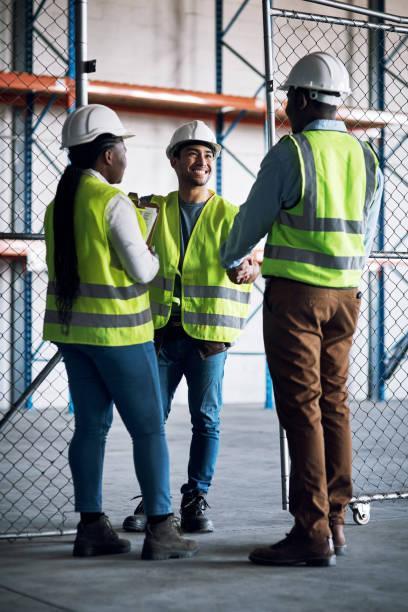bota: (68, 507, 197, 564), (247, 522, 358, 569), (177, 493, 217, 537)
capacete: (272, 52, 356, 100), (53, 106, 138, 146), (165, 124, 226, 152)
pessoa: (25, 98, 182, 567), (246, 52, 368, 565), (151, 119, 249, 541)
uniforme seguranca: (266, 125, 385, 300), (47, 177, 153, 357), (145, 187, 255, 346)
